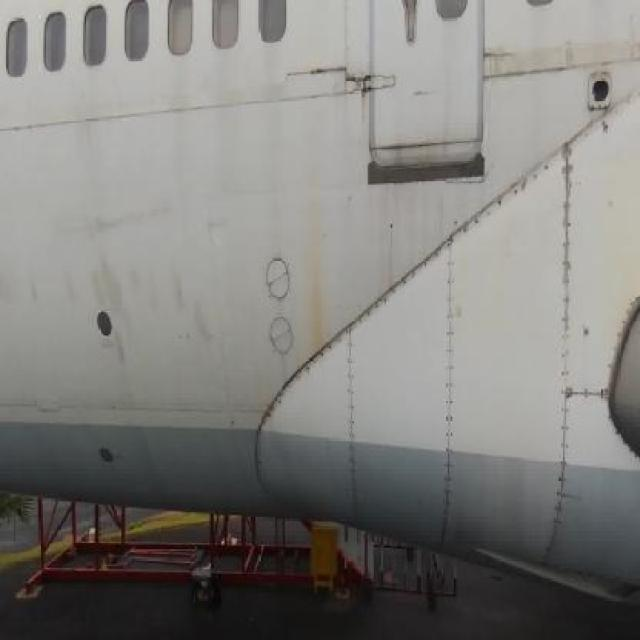Missing-Rivet: (555, 133, 577, 542), (458, 160, 557, 232), (356, 246, 439, 322), (439, 220, 458, 528), (277, 336, 340, 406), (342, 313, 363, 499)
Rust: (296, 152, 336, 370), (351, 63, 387, 159)
Scartch: (5, 251, 221, 374), (52, 186, 179, 249), (482, 36, 582, 104), (198, 191, 236, 271)
